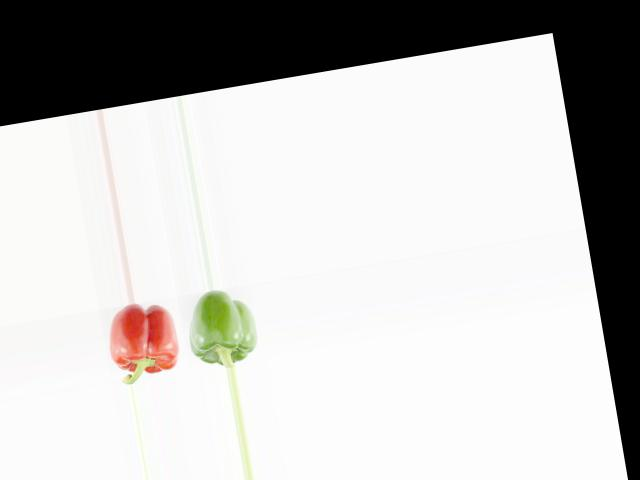bell_pepper: (179, 287, 263, 372)
